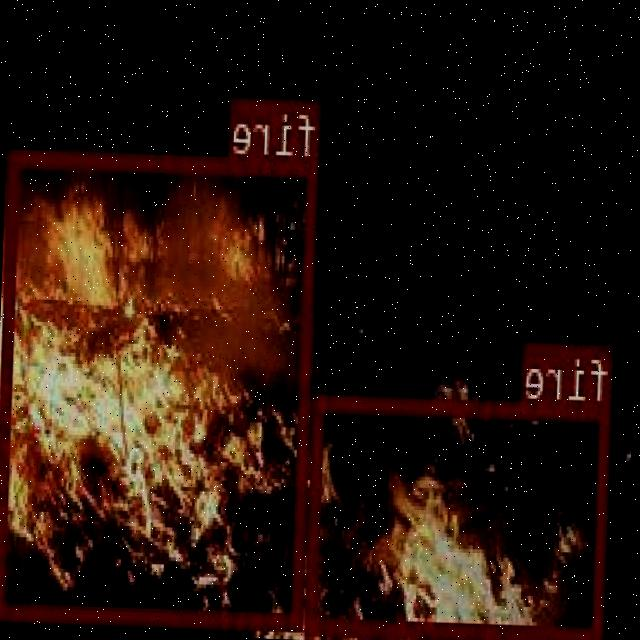fire: (0, 146, 319, 625), (307, 394, 612, 640)
